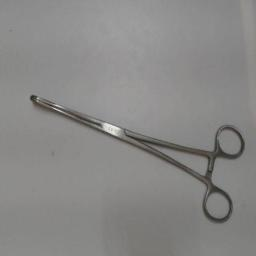Sponge Forceps: (26, 88, 248, 230)
